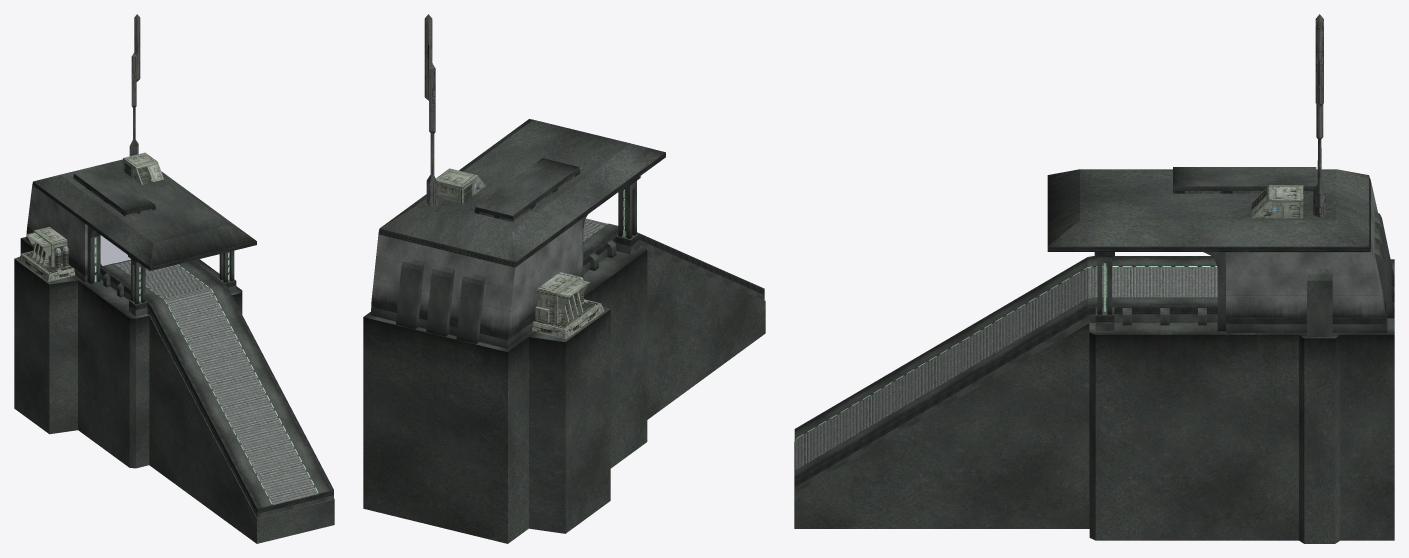
File: ply_corl_garage_s01_l1.fbx
3 renders of one model, left to right at view 1: azimuth 30°, elevation 25°; view 2: azimuth 150°, elevation 25°; view 3: azimuth 270°, elevation 25°, orthographic. The views are drawn at different scales.
Visible parts, largest first — view 1: mesh_node; view 2: mesh_node; view 3: mesh_node.
Part boxes in pixels (bbox=[...]): mesh_node: bbox=[14, 14, 334, 543]; mesh_node: bbox=[363, 14, 765, 543]; mesh_node: bbox=[794, 14, 1394, 543].
Size of the model in its own units: 12.13 by 30.03 by 32.
